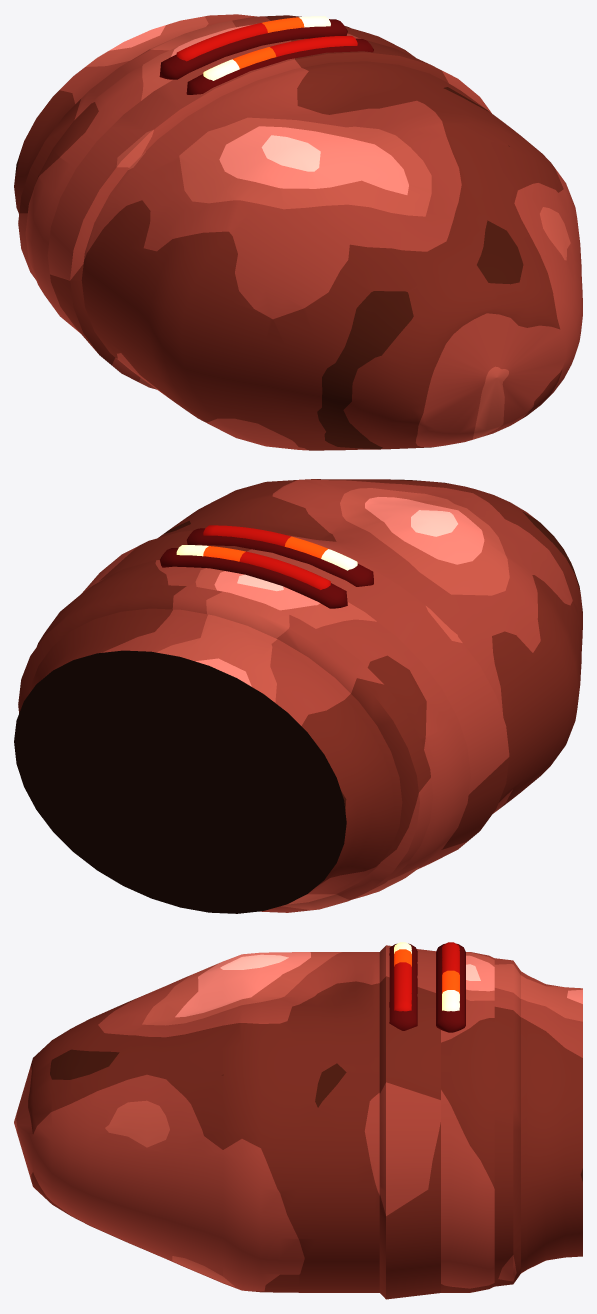
File: ixm_pod_body_195.glb
3 views of the same model, one above another, from view 1: azimuth 30°, elevation 25°; view 2: azimuth 150°, elevation 25°; view 3: azimuth 270°, elevation 25° (orthographic). The views are drawn at different scales.
Visible parts, largest first — view 1: ixm_pod_body_195; view 2: ixm_pod_body_195; view 3: ixm_pod_body_195.
Boxes of the visible parts, left/top/right/bottom form: ixm_pod_body_195: left=14, top=14, right=582, bottom=450; ixm_pod_body_195: left=14, top=479, right=582, bottom=913; ixm_pod_body_195: left=14, top=942, right=582, bottom=1299.
Bounding box in the file's own units: 19 × 14.02 × 23.7.
